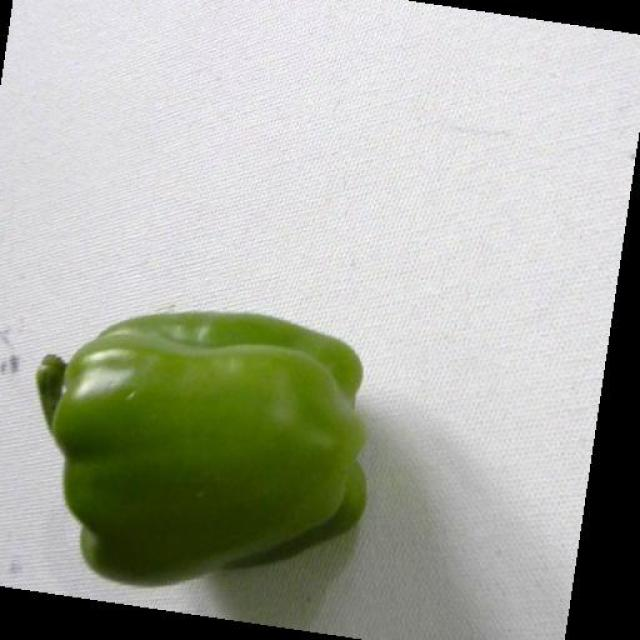Fresh_Capsicum: (6, 288, 419, 564)
